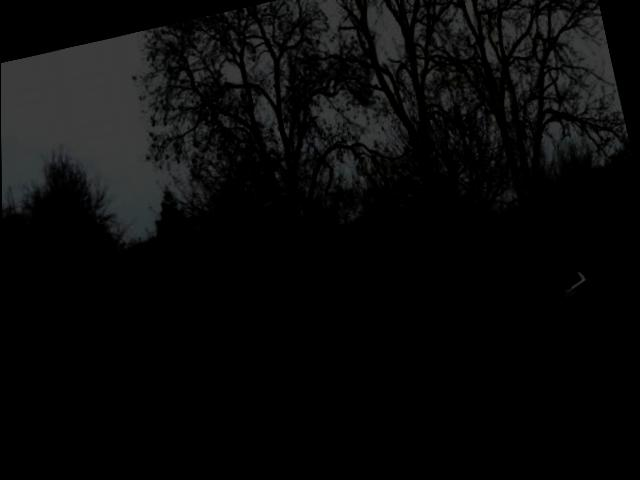uav: (513, 227, 608, 333)
